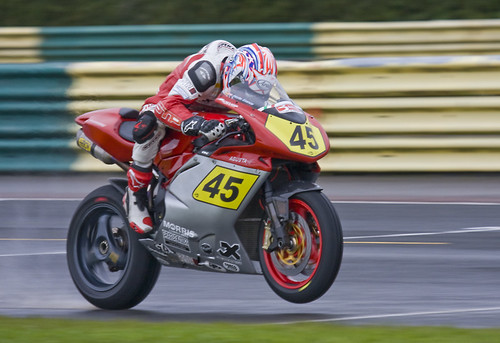helmet: (227, 44, 272, 85)
